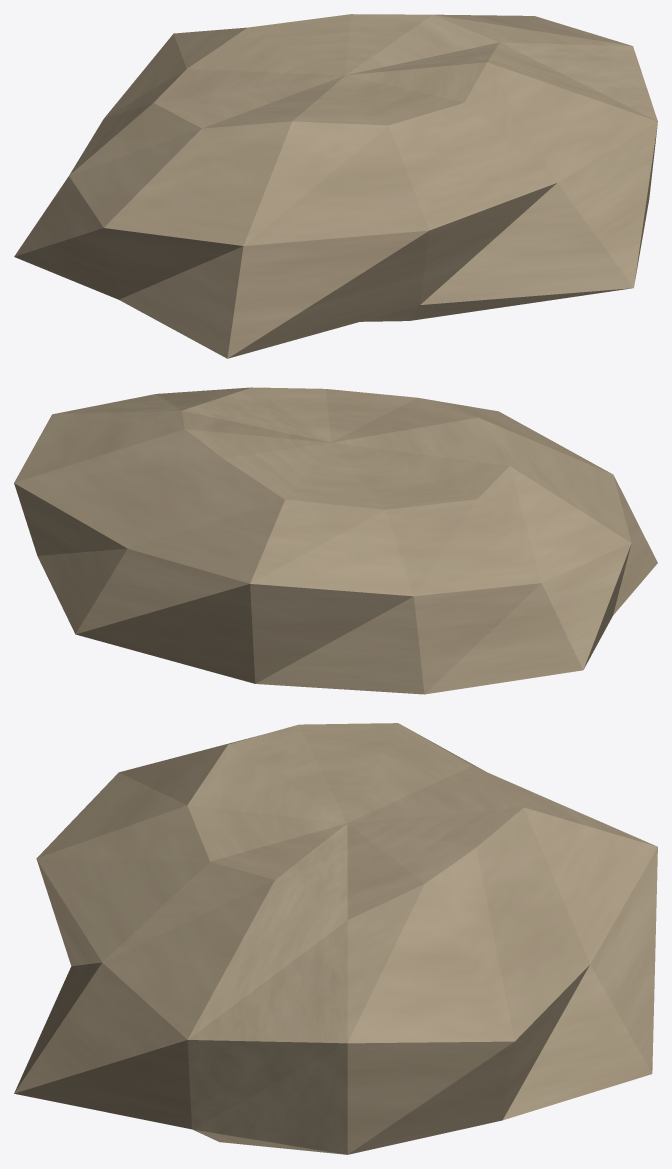
The model's file is SM_CN_Caliche_A.glb.
The picture shows the model from 3 angles, top to bottom: view 1: azimuth 30°, elevation 25°; view 2: azimuth 150°, elevation 25°; view 3: azimuth 270°, elevation 25°; orthographic projection. The views are drawn at different scales.
Visible parts, largest first — view 1: SM_CN_Caliche_A; view 2: SM_CN_Caliche_A; view 3: SM_CN_Caliche_A.
Boxes of the visible parts, left/top/right/bottom form: SM_CN_Caliche_A: left=14, top=14, right=657, bottom=358; SM_CN_Caliche_A: left=14, top=387, right=657, bottom=694; SM_CN_Caliche_A: left=14, top=723, right=657, bottom=1154.
Size of the model in its own units: 0.64 by 0.19 by 0.5041.
1 material, 1 textured.
